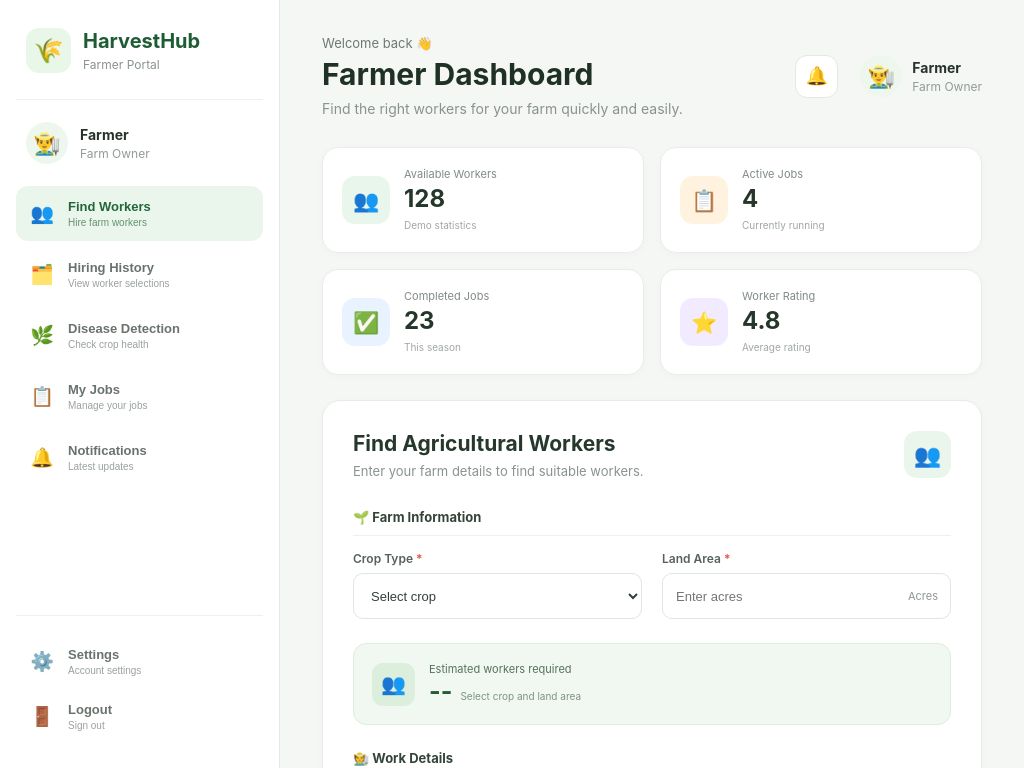
it: shows an empty state when the farmer has no hiring history
Click the button "🗂️ Hiring History View worker selections" at point(140, 274), box [16, 247, 263, 302]
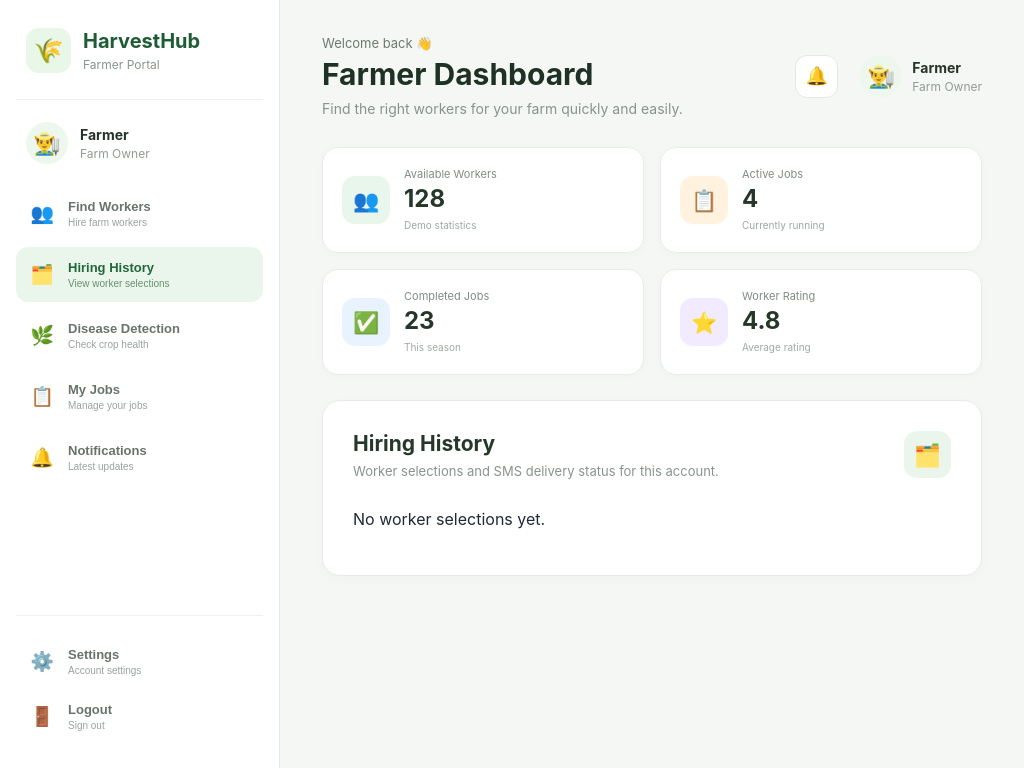
Check: the text "No worker selections yet." is shown, box [353, 509, 545, 529]
